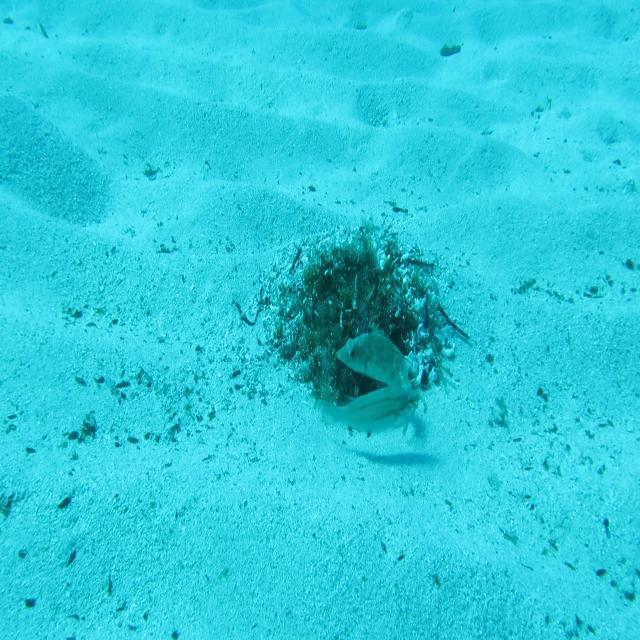DAN_CIRC: (336, 319, 415, 438)
core_nest: (329, 266, 376, 314)
female: (310, 384, 421, 440)
nest: (249, 207, 460, 443)
vegetation: (440, 41, 461, 60)
